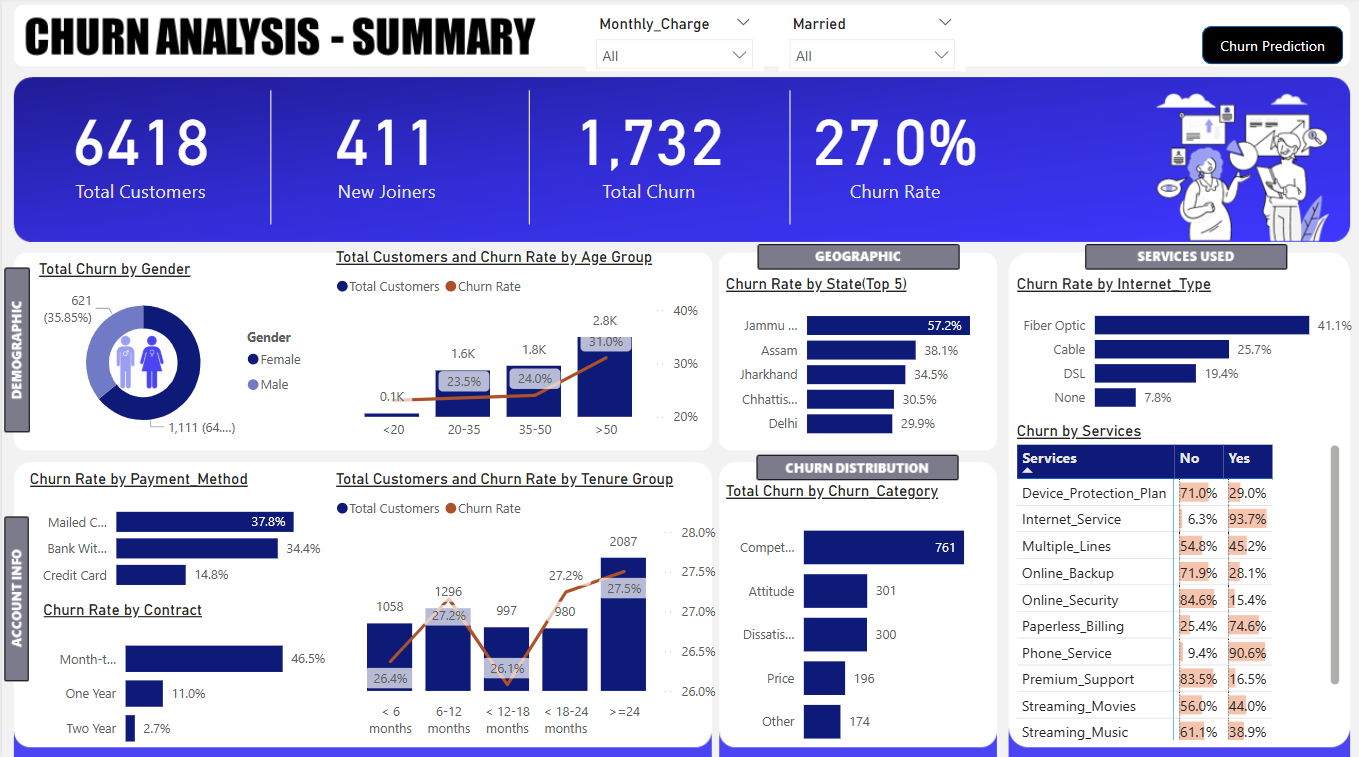

The page's visual inventory and layout, read from the dashboard file:
{"tool":"powerbi","page":{"name":" Summary","canvas":[1280,720],"ordinal":0},"visuals":[{"type":"image","box":[48.3,305.8,163.3,74.2],"z":0},{"type":"card","fields":{"Values":["Tbl_measures.Total Customers"]},"box":[21.2,63.8,217.5,155],"z":1000},{"type":"card","fields":{"Values":["Tbl_measures.New Joiners"]},"box":[252.5,63.8,217.5,155],"z":2000},{"type":"card","fields":{"Values":["Tbl_measures.Total Churn"]},"box":[498.8,63.8,217.5,155],"z":3000},{"type":"card","fields":{"Values":["Tbl_measures.Churn Rate"]},"box":[730,63.8,217.5,155],"z":4000},{"type":"donutChart","fields":{"Category":["churn_data_cleaned.Gender"],"Y":["Tbl_measures.Total Churn"]},"box":[29.2,248.3,266.7,176.7],"z":5000},{"type":"lineStackedColumnComboChart","fields":{"Category":["mapping_ageGroup.Age Group"],"Y":["Tbl_measures.Total Customers"],"Y2":["Tbl_measures.Churn Rate"]},"box":[308.3,236.7,350,188.3],"z":6000},{"type":"clusteredBarChart","fields":{"Category":["churn_data_cleaned.Payment_Method"],"Y":["Tbl_measures.Churn Rate"]},"box":[21.2,445,292.5,123.8],"z":7000},{"type":"clusteredBarChart","fields":{"Category":["churn_data_cleaned.Contract"],"Y":["Tbl_measures.Churn Rate"]},"box":[33.3,568.3,275,151.7],"z":8000},{"type":"lineStackedColumnComboChart","fields":{"Category":["mapping_tenure.Tenure Group"],"Y":["Tbl_measures.Total Customers"],"Y2":["Tbl_measures.Churn Rate"]},"box":[308.3,445,366.7,258.3],"z":9000},{"type":"clusteredBarChart","title":"Churn Rate by State(Top 5)","fields":{"Category":["churn_data_cleaned.State"],"Y":["Tbl_measures.Churn Rate"]},"box":[675,261.7,273.3,163.3],"z":10000},{"type":"clusteredBarChart","fields":{"Category":["churn_data_cleaned.Churn_Category"],"Y":["Tbl_measures.Total Churn"]},"box":[675,456.7,258.3,263.3],"z":11000},{"type":"pivotTable","title":"Churn by Services","fields":{"Rows":["services.Services"],"Columns":["services.Status"],"Values":["Sum(services.Churn Status)"]},"box":[948.3,400,313.3,303.3],"z":12000},{"type":"clusteredBarChart","fields":{"Category":["churn_data_cleaned.Internet_Type"],"Y":["Tbl_measures.Churn Rate"]},"box":[948.3,261.7,331.7,138.3],"z":13000},{"type":"slicer","fields":{"Values":["services.Monthly_Charge"]},"box":[548.6,12.5,167.2,57.8],"z":14000},{"type":"slicer","fields":{"Values":["services.Married"]},"box":[729.9,12.5,175.1,57.8],"z":15000},{"type":"shape","box":[1128.5,28.1,132.9,35.9],"z":15001}]}

Visuals, with their boxes in screenshot pixels (x1, y1, x2, y2), scaled from the page's 1280x720 canvas onto the 1359x757 screenshot:
image: bbox(51, 322, 225, 400)
card - Tbl_measures.Total Customers: bbox(23, 67, 253, 230)
card - Tbl_measures.New Joiners: bbox(268, 67, 499, 230)
card - Tbl_measures.Total Churn: bbox(530, 67, 761, 230)
card - Tbl_measures.Churn Rate: bbox(775, 67, 1006, 230)
donutChart - churn_data_cleaned.Gender x Tbl_measures.Total Churn: bbox(31, 261, 314, 447)
lineStackedColumnComboChart - mapping_ageGroup.Age Group x Tbl_measures.Total Customers: bbox(327, 249, 699, 447)
clusteredBarChart - churn_data_cleaned.Payment_Method x Tbl_measures.Churn Rate: bbox(23, 468, 333, 598)
clusteredBarChart - churn_data_cleaned.Contract x Tbl_measures.Churn Rate: bbox(35, 598, 327, 756)
lineStackedColumnComboChart - mapping_tenure.Tenure Group x Tbl_measures.Total Customers: bbox(327, 468, 717, 739)
"Churn Rate by State(Top 5)" clusteredBarChart: bbox(717, 275, 1007, 447)
clusteredBarChart - churn_data_cleaned.Churn_Category x Tbl_measures.Total Churn: bbox(717, 480, 991, 756)
"Churn by Services" pivotTable: bbox(1007, 421, 1339, 739)
clusteredBarChart - churn_data_cleaned.Internet_Type x Tbl_measures.Churn Rate: bbox(1007, 275, 1358, 421)
slicer - services.Monthly_Charge: bbox(582, 13, 760, 74)
slicer - services.Married: bbox(775, 13, 961, 74)
shape: bbox(1198, 30, 1339, 67)
